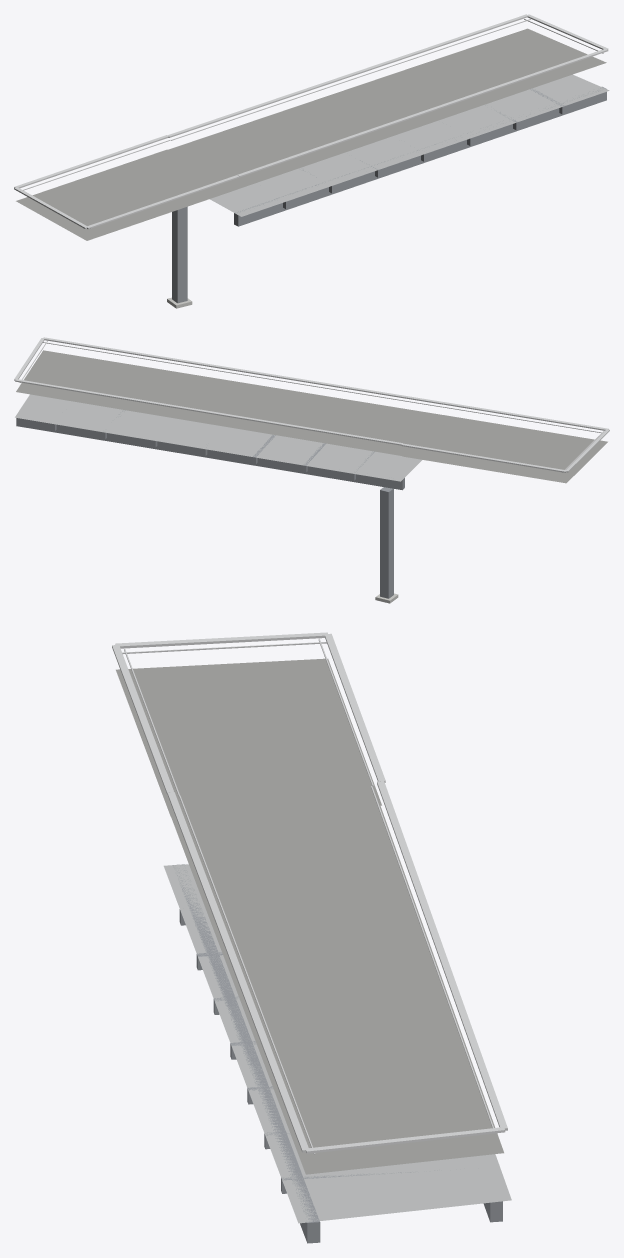
The model's file is d17-station-bridge-additions.glb.
3 renders of one model, top to bottom at view 1: azimuth 30°, elevation 25°; view 2: azimuth 150°, elevation 25°; view 3: azimuth 270°, elevation 25°, orthographic. The views are drawn at different scales.
Visible parts, largest first — view 1: INFERRED_deck.001; view 2: INFERRED_deck.001; view 3: INFERRED_deck.001.
Boxes of the visible parts, x1,y1,x2,y2 form: INFERRED_deck.001: (14,14,609,308); INFERRED_deck.001: (14,337,609,603); INFERRED_deck.001: (112,632,511,1243).
Size of the model in its own units: 47.53 by 13.34 by 15.47.
1 material, 1 textured.
